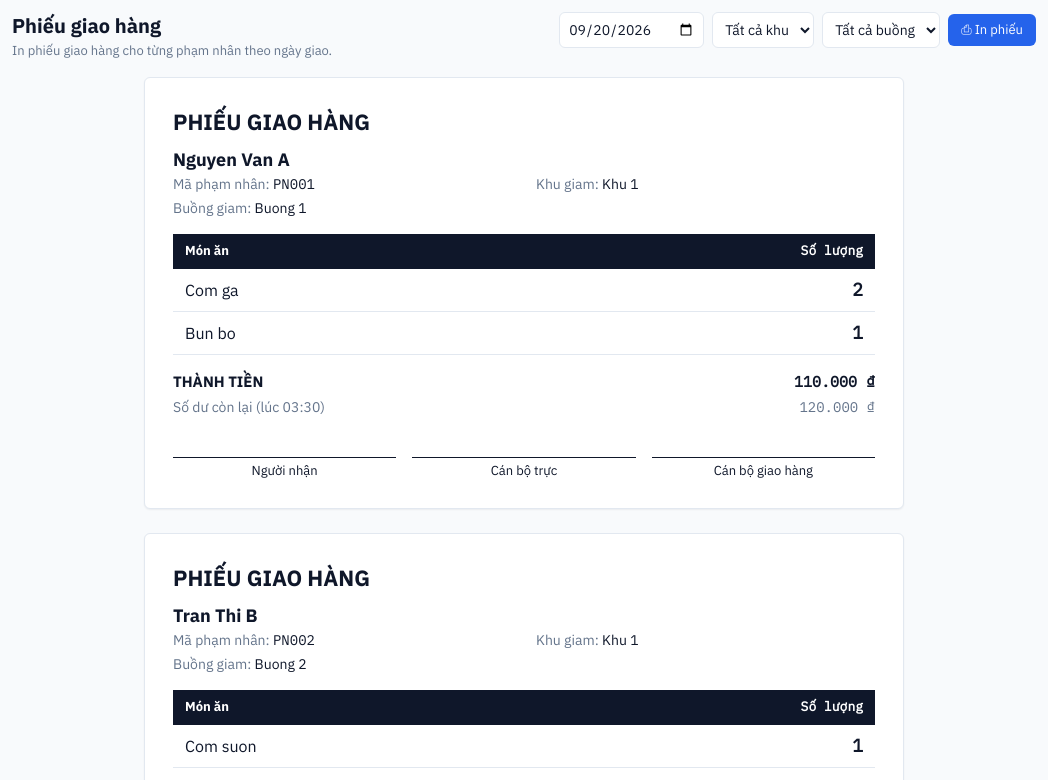
Test: VouchersPage — zone/cell filter › narrows the visible sheets when a cell is selected
Expected: the text "Nguyen Van A" is shown, [173,148,290,171]
Select "Buong 2" in the dropdown named "Buồng giam": (881, 30) [822,12,940,48]
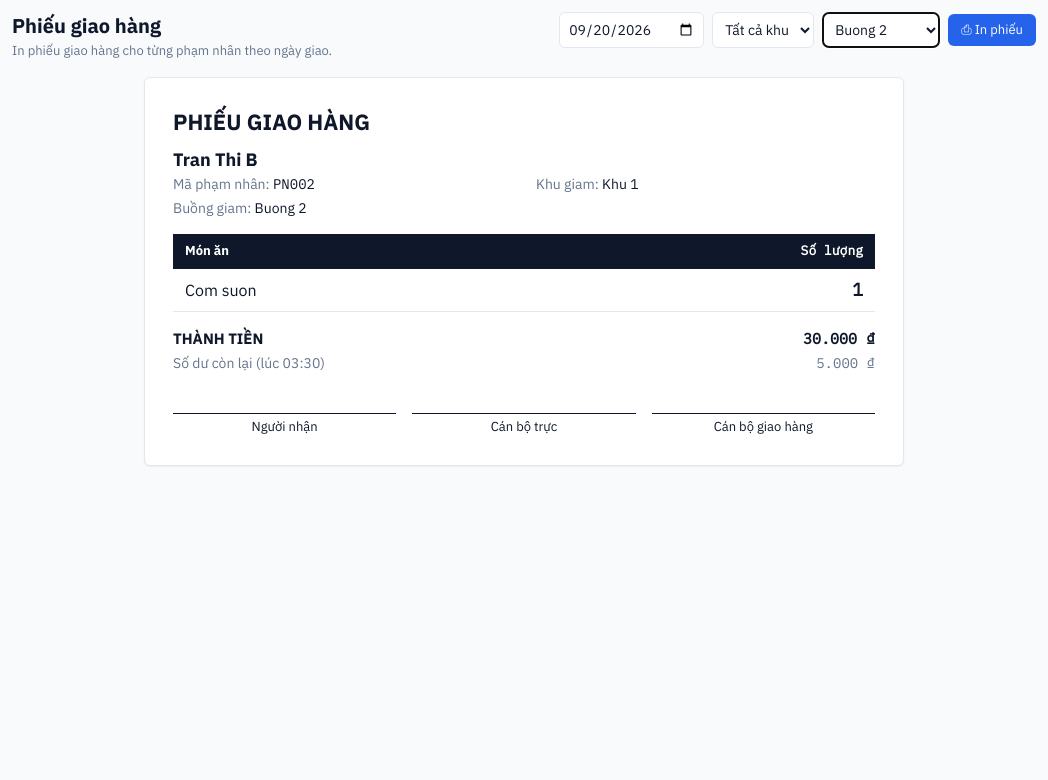
Expected: the text "Tran Thi B" is shown, [173,148,258,171]
Result: the text "Nguyen Van A" is gone
